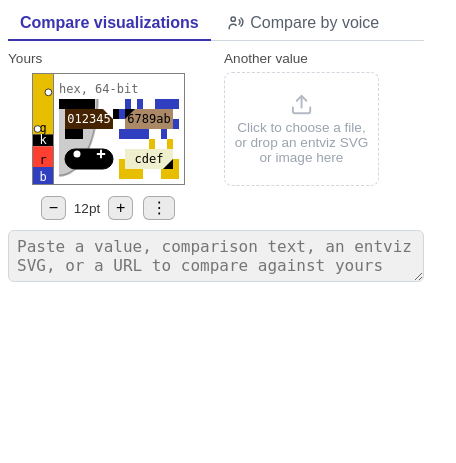
Test: EntvizCompare › editing a reference into a checksum-broken value → `unknown`, never blanks the page
Replace the text in the text box labelled "Paste" with "0x5aAeb6053F3E94C9b9A09f33669435E7Ef1BeAed" at (216, 256), box [8,230,424,282]
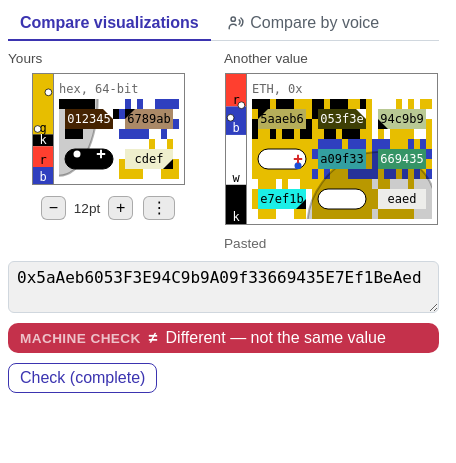
Expected: the message shows "≠", [149,329,158,346]
Replace the text in the text box named "Paste" with "0x5Aaeb6053F3E94C9b9A09f33669435E7Ef1BeAed" at (224, 287), box [8,261,439,313]
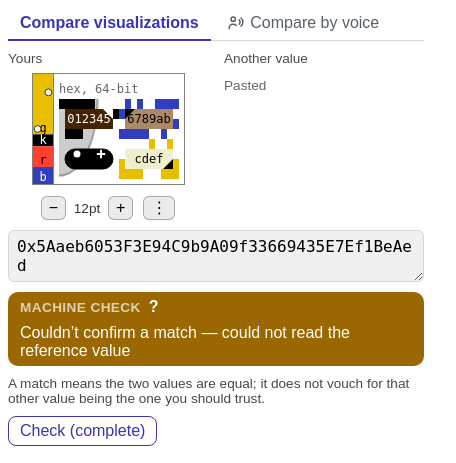
Expected: the message shows "could not read the reference", [20,324,350,359]
